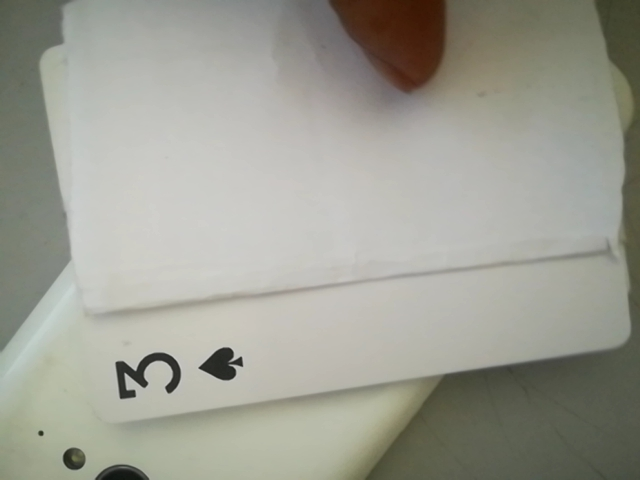ht 3: (98, 327, 257, 412)
